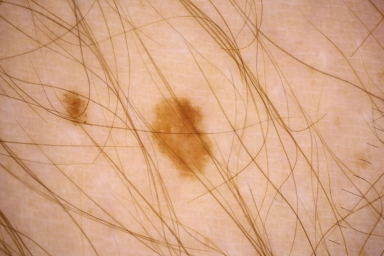melanoma: (150, 95, 213, 180), (61, 91, 87, 126)
